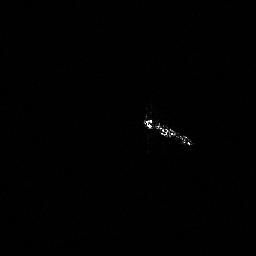ship: (143, 114, 194, 148)
